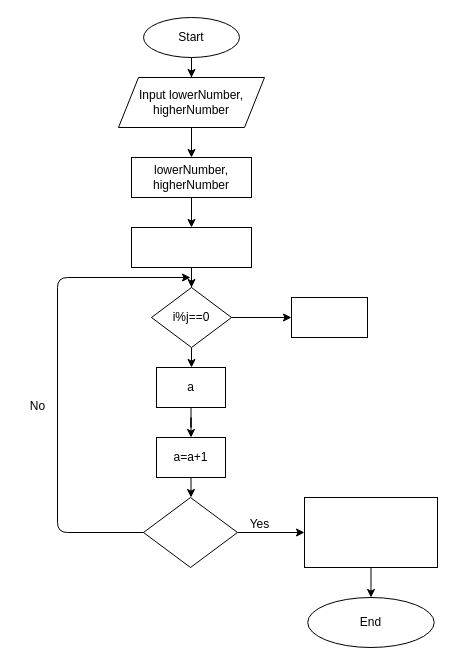
This 455x665 diagram has some shape labels left out. Here are the shapes that lost their labels. From the top down, the centre of each, then its label:
[191,247]: i=lowerNumber; i<=higherNumber; i++
[329,317]: break
[190,532]: i>1 && flag==0
[371,532]: Print "Prime number between {lowerNumber} and {higherNumber} is {a}"
